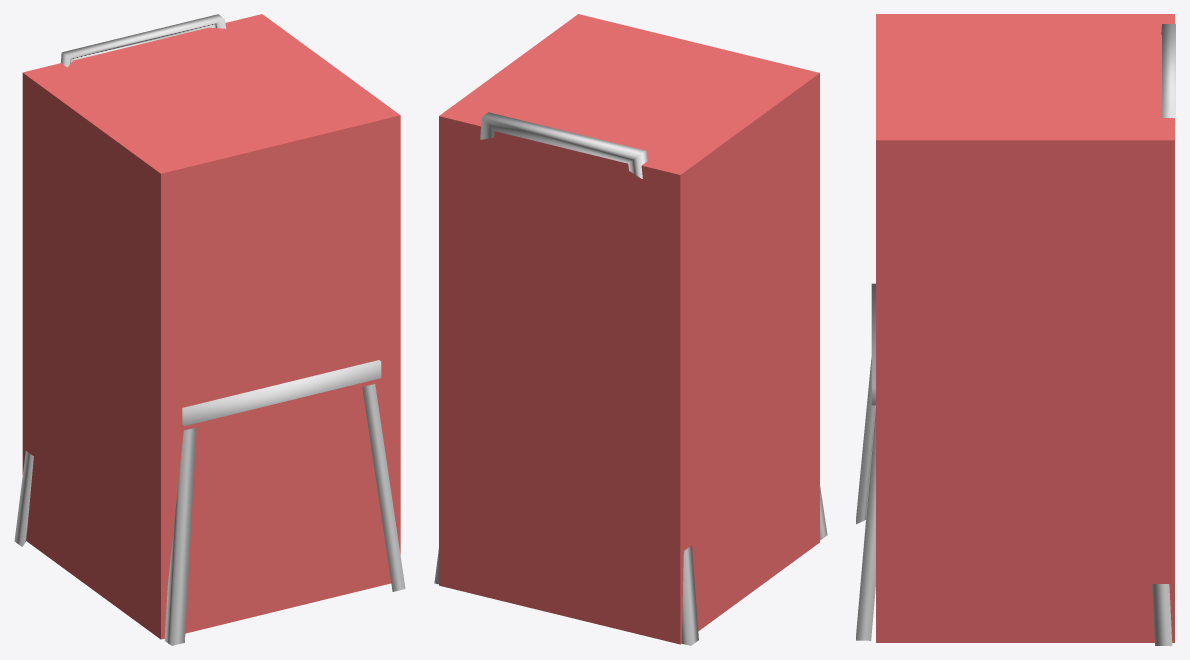
File: prop_chair_02.glb
3 views of the same model, side by side, from view 1: azimuth 30°, elevation 25°; view 2: azimuth 150°, elevation 25°; view 3: azimuth 270°, elevation 25° (orthographic). The views are drawn at different scales.
Parts seen in each view (by area): view 1: brush_box.011, prop_chair_02; view 2: brush_box.011, prop_chair_02; view 3: brush_box.011, prop_chair_02.
Boxes of the visible parts, x1,y1,x2,y2 form: brush_box.011: (22,14,400,639); prop_chair_02: (14,14,405,645); brush_box.011: (439,14,819,644); prop_chair_02: (434,112,827,645); brush_box.011: (876,14,1174,642); prop_chair_02: (856,24,1175,645).
Size of the model in its own units: 0.5719 by 1.02 by 0.5767.
